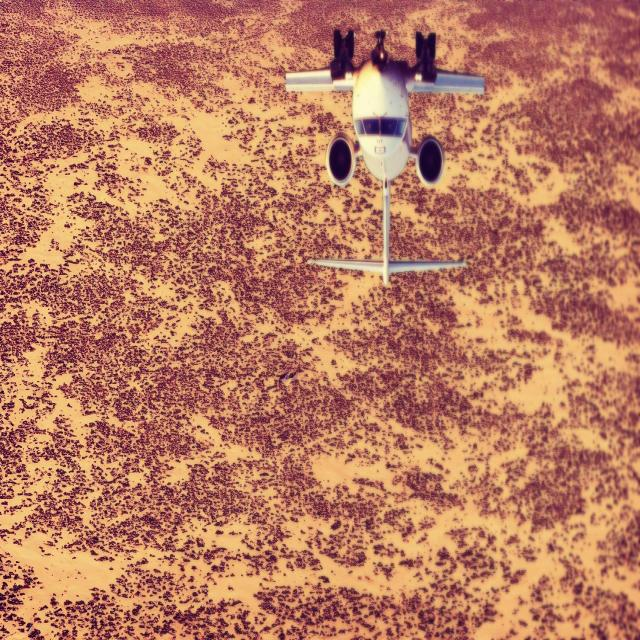airplane: (284, 26, 485, 285)
